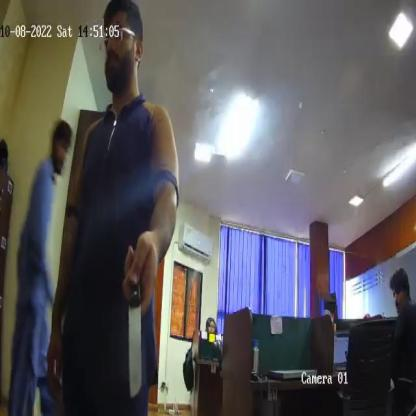Knife: (120, 260, 146, 403)
